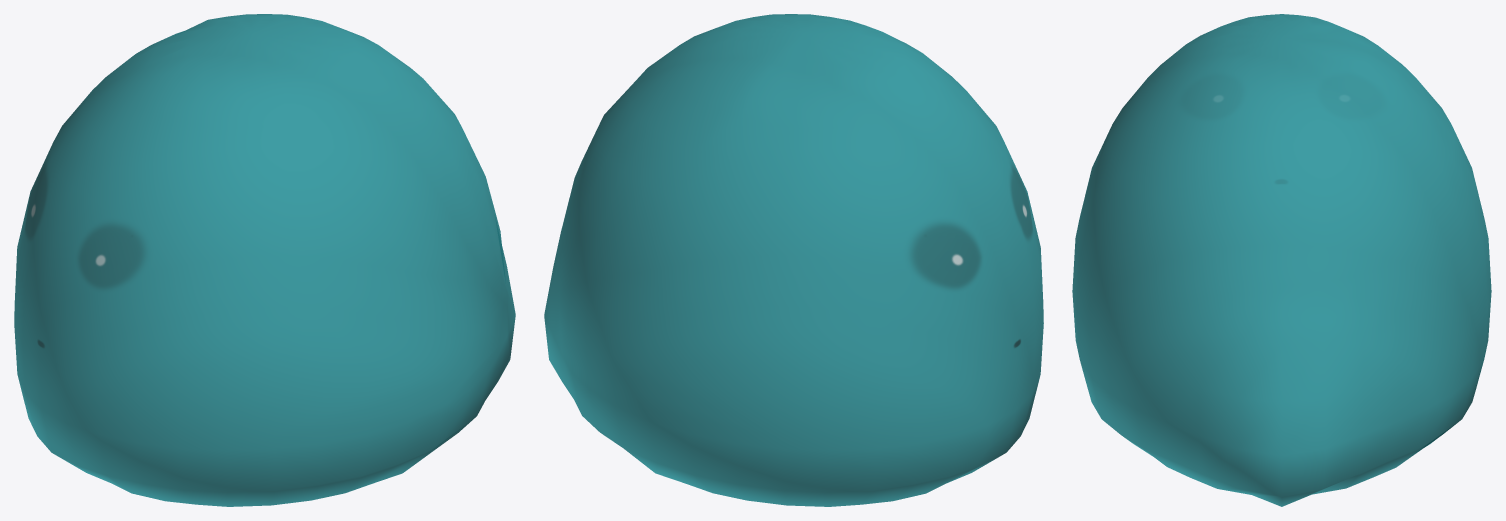
File: monsterSlime.glb
The picture shows the model from 3 angles, left to right: view 1: azimuth 30°, elevation 25°; view 2: azimuth 150°, elevation 25°; view 3: azimuth 270°, elevation 25°; orthographic projection. The views are drawn at different scales.
Visible parts, largest first — view 1: Cone; view 2: Cone; view 3: Cone.
Part boxes in pixels (x1,y1,x2,y2): Cone: (14, 14, 515, 506); Cone: (544, 14, 1043, 506); Cone: (1072, 14, 1491, 506).
Bounding box in the file's own units: 2.22 × 1.86 × 1.84.
1 material, 1 textured.
